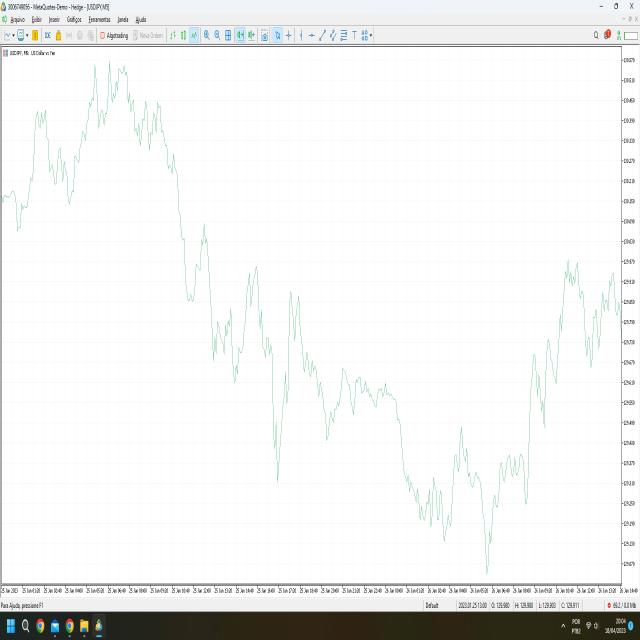oco: (542, 233, 598, 410), (448, 406, 486, 517)
topo_duplo: (238, 255, 268, 336), (282, 272, 308, 365)
